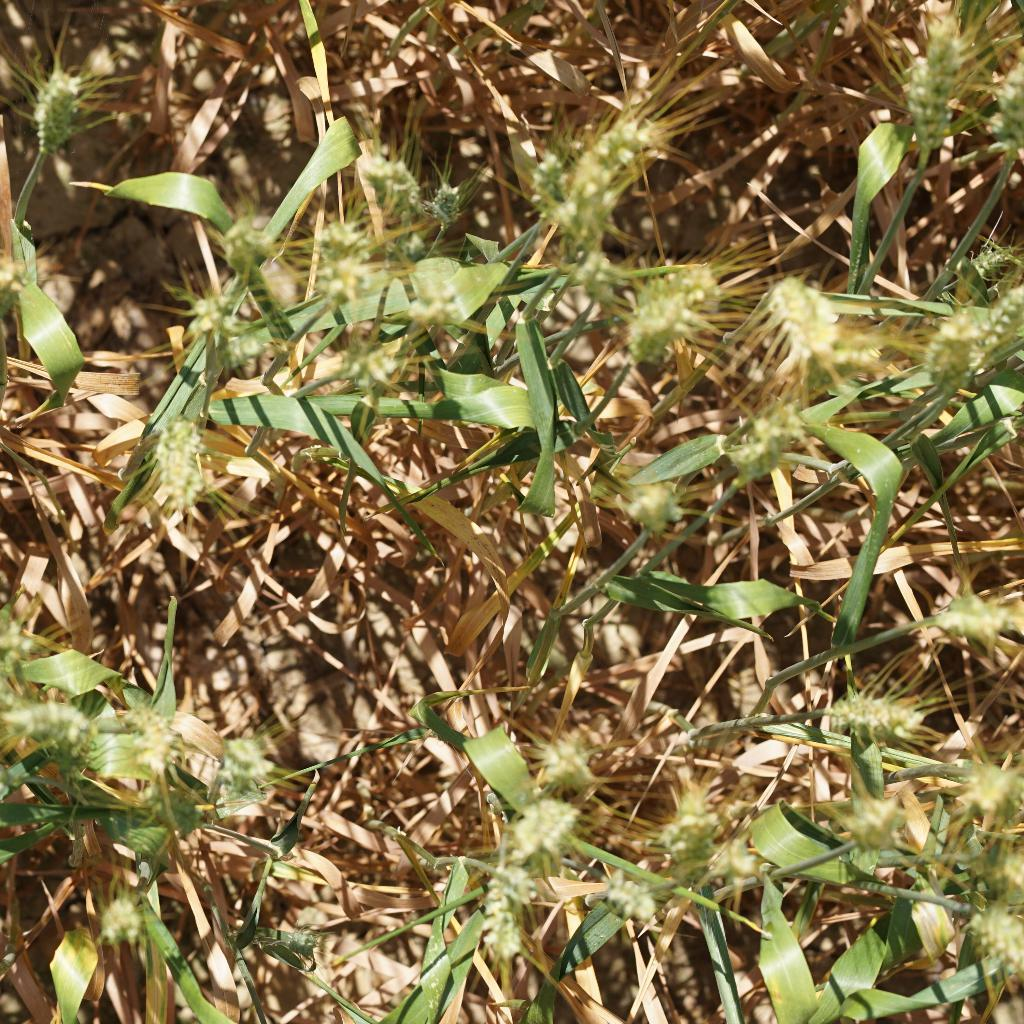0-0: (564, 107, 649, 236), (142, 403, 224, 516), (935, 733, 1024, 831), (619, 276, 706, 376), (755, 258, 837, 363), (911, 27, 975, 152), (19, 53, 101, 150), (779, 316, 894, 385), (470, 859, 539, 968), (953, 884, 1024, 989), (733, 400, 817, 488), (639, 778, 718, 870), (626, 256, 735, 320), (494, 783, 583, 860), (823, 675, 926, 736), (520, 721, 602, 796), (963, 271, 1024, 371), (598, 481, 692, 545), (114, 698, 186, 776), (975, 43, 1024, 157), (8, 692, 109, 747), (205, 728, 275, 803), (918, 296, 985, 373), (93, 871, 155, 953), (836, 780, 899, 855), (352, 142, 418, 212), (328, 326, 407, 384), (940, 585, 1024, 638), (186, 269, 243, 347), (593, 870, 672, 926), (301, 212, 372, 273), (960, 830, 1023, 896), (406, 274, 464, 341), (304, 258, 384, 306), (134, 783, 205, 834), (703, 840, 769, 894), (213, 209, 277, 264), (0, 240, 45, 312), (565, 253, 624, 307), (414, 175, 473, 225), (959, 231, 1019, 280), (527, 144, 572, 209), (204, 328, 267, 374), (285, 919, 324, 959)
